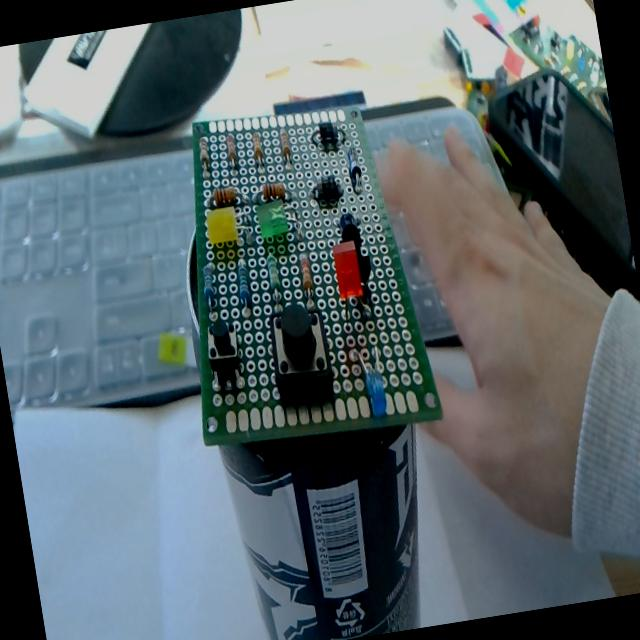diode: (308, 173, 346, 209), (308, 121, 348, 152), (346, 146, 365, 191)
led: (358, 342, 390, 418), (329, 238, 366, 303), (257, 204, 302, 244), (204, 204, 240, 247), (200, 262, 220, 306)
resistor: (262, 249, 284, 310), (296, 252, 316, 310), (252, 180, 290, 207), (235, 258, 254, 308), (196, 136, 213, 177), (250, 132, 266, 168), (213, 185, 237, 208), (225, 132, 239, 168), (280, 129, 294, 165)
switch: (265, 301, 335, 399), (203, 316, 244, 384)
transistor: (354, 248, 374, 284), (338, 210, 358, 233)
